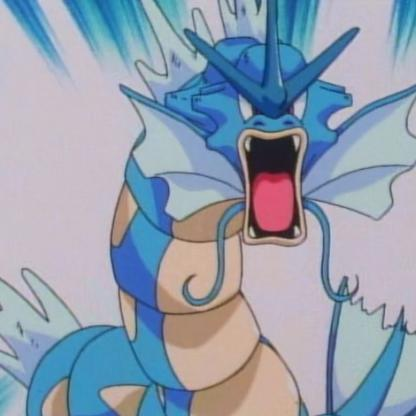Gyarados: (58, 1, 416, 416)
